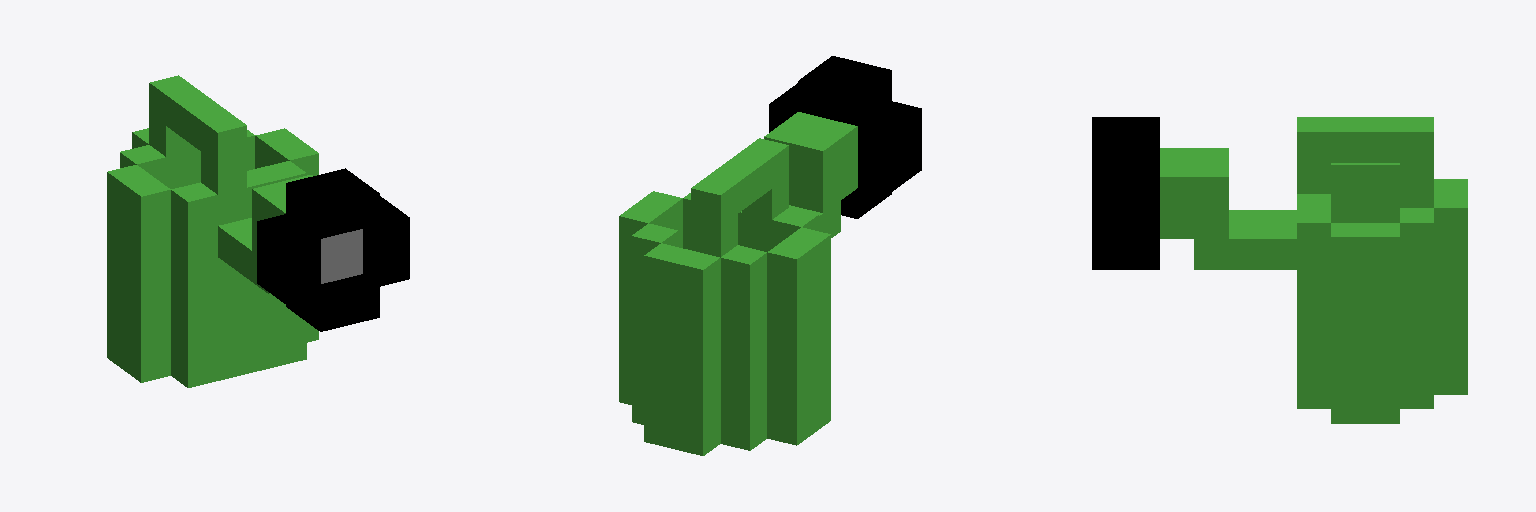
3 views of the same model, side by side, from view 1: azimuth 30°, elevation 25°; view 2: azimuth 150°, elevation 25°; view 3: azimuth 270°, elevation 25° (orthographic).
Parts seen in each view (by area): view 1: object 1; view 2: object 1; view 3: object 1.
Part boxes in pixels (x1,y1,x2,y2): object 1: (107, 75, 409, 387); object 1: (619, 56, 921, 455); object 1: (1092, 117, 1467, 423).
Bounding box in the file's own units: 0.6 × 0.8 × 1.1.
1 materials, 1 textured.